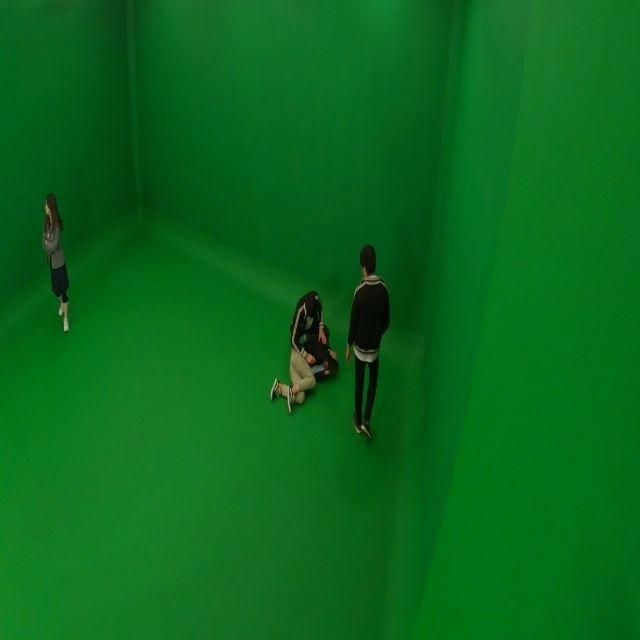non-fight: (343, 245, 391, 440), (267, 286, 339, 411), (42, 191, 74, 330)
